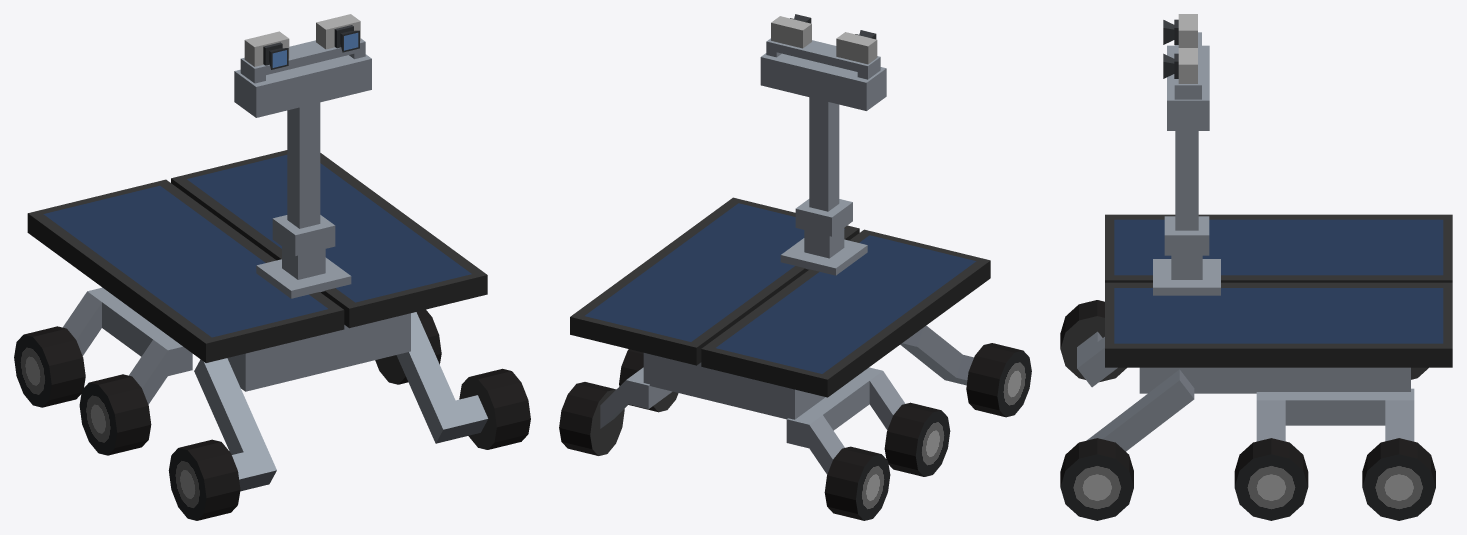
File: SM_Veh_Rover_01.fbx
3 renders of one model, left to right at view 1: azimuth 30°, elevation 25°; view 2: azimuth 150°, elevation 25°; view 3: azimuth 270°, elevation 25°, orthographic. The views are drawn at different scales.
Visible parts, largest first — view 1: SM_Veh_Rover_01; view 2: SM_Veh_Rover_01; view 3: SM_Veh_Rover_01.
Boxes of the visible parts, x1=… form: SM_Veh_Rover_01: x1=14, y1=14, x2=530, y2=520; SM_Veh_Rover_01: x1=559, y1=14, x2=1031, y2=520; SM_Veh_Rover_01: x1=1060, y1=14, x2=1452, y2=520.
Bounding box in the file's own units: 2.14 × 2.61 × 2.29.
